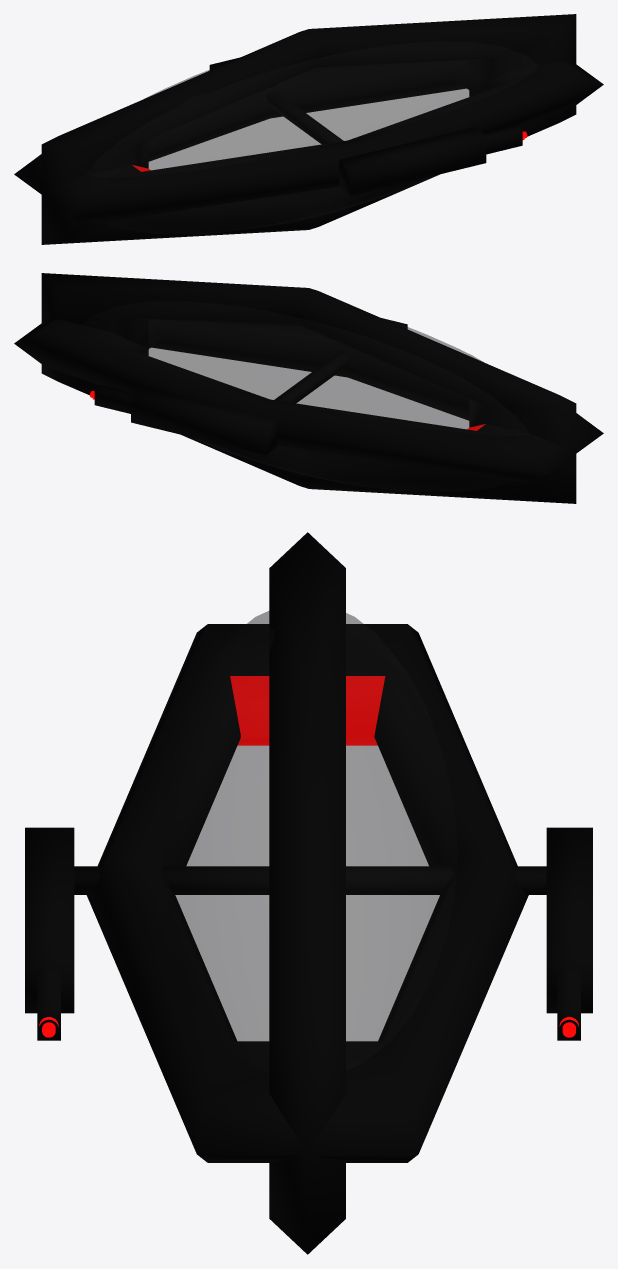
Rendered from drone4.glb.
3 views of the same model, one above another, from view 1: azimuth 30°, elevation 25°; view 2: azimuth 150°, elevation 25°; view 3: azimuth 270°, elevation 25° (orthographic). The views are drawn at different scales.
Parts seen in each view (by area): view 1: Drone 4; view 2: Drone 4; view 3: Drone 4.
Part boxes in pixels (left/top/right/bottom): Drone 4: left=14, top=14, right=603, bottom=244; Drone 4: left=14, top=273, right=603, bottom=503; Drone 4: left=25, top=532, right=592, bottom=1254.
Size of the model in its own units: 15.41 by 5.54 by 7.09.
